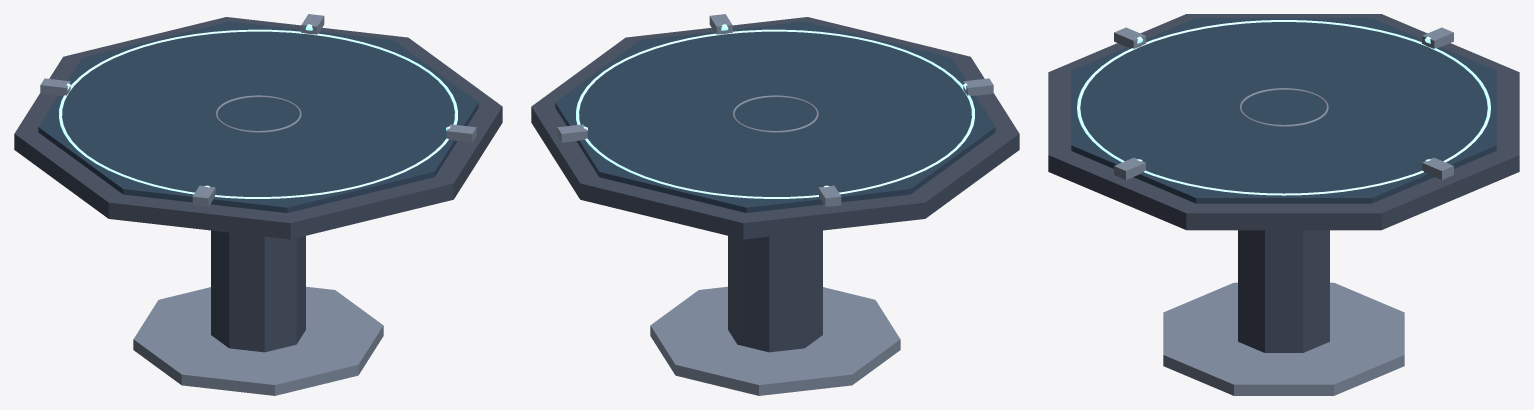
File: workbench_pedestal.glb
3 views of the same model, side by side, from view 1: azimuth 30°, elevation 25°; view 2: azimuth 150°, elevation 25°; view 3: azimuth 270°, elevation 25° (orthographic). The views are drawn at different scales.
Visible parts, largest first — view 1: TopDeck, BaseOctagon, FloorFoot, SupportColumn, HoloRing, OriginRing, EmitterPod_3, EmitterPod_1; view 2: TopDeck, BaseOctagon, FloorFoot, SupportColumn, HoloRing, OriginRing, EmitterPod_0, EmitterPod_2; view 3: TopDeck, BaseOctagon, FloorFoot, SupportColumn, HoloRing, OriginRing, EmitterPod_0, EmitterPod_3, EmitterPod_1, EmitterPod_2.
Part boxes in pixels (<box>): TopDeck: <box>38,21,478,212</box>; BaseOctagon: <box>14,17,502,239</box>; FloorFoot: <box>133,286,383,395</box>; SupportColumn: <box>211,230,305,352</box>; HoloRing: <box>59,29,457,198</box>; OriginRing: <box>215,95,301,132</box>; EmitterPod_3: <box>446,124,476,142</box>; EmitterPod_1: <box>40,78,70,95</box>; TopDeck: <box>555,21,995,212</box>; BaseOctagon: <box>531,17,1019,239</box>; FloorFoot: <box>650,286,900,395</box>; SupportColumn: <box>728,230,822,352</box>; HoloRing: <box>576,29,974,198</box>; OriginRing: <box>732,95,818,132</box>; EmitterPod_0: <box>557,124,587,142</box>; EmitterPod_2: <box>963,78,993,95</box>; TopDeck: <box>1071,18,1496,203</box>; BaseOctagon: <box>1048,14,1519,230</box>; FloorFoot: <box>1163,282,1404,395</box>; SupportColumn: <box>1238,230,1329,352</box>; HoloRing: <box>1077,20,1490,195</box>; OriginRing: <box>1239,88,1328,126</box>; EmitterPod_0: <box>1422,157,1453,179</box>; EmitterPod_3: <box>1114,157,1145,179</box>; EmitterPod_1: <box>1422,27,1453,48</box>; EmitterPod_2: <box>1114,27,1145,48</box>.
Size of the model in its own units: 1.52 by 0.8754 by 1.52.
